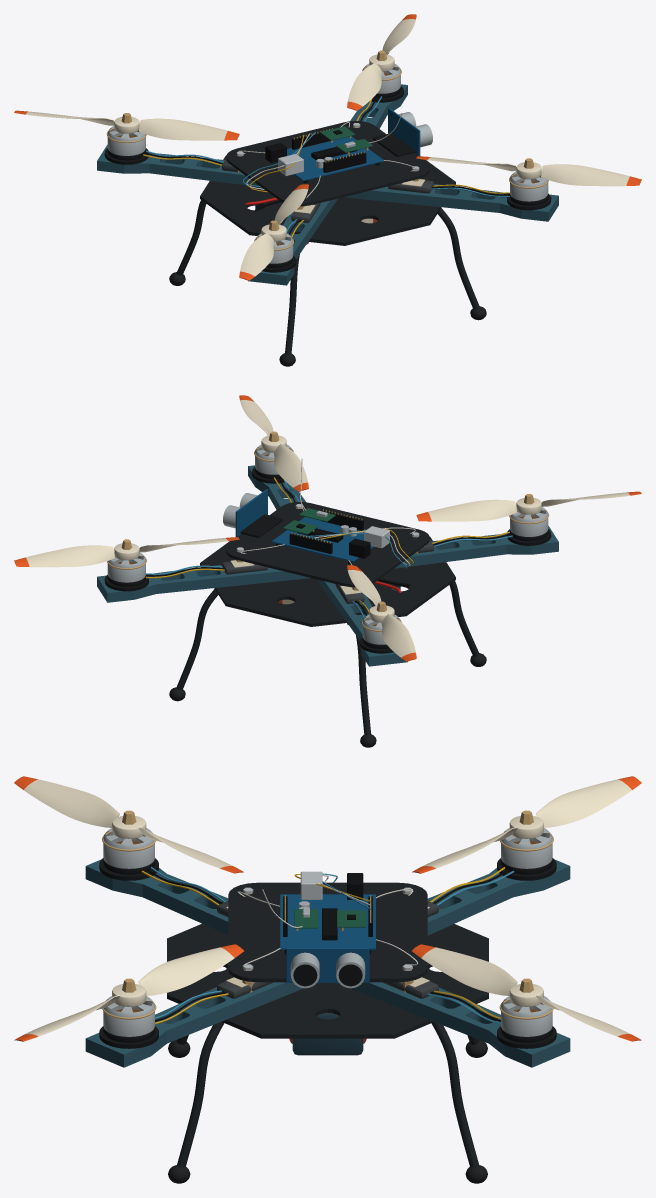
File: drone.glb
3 renders of one model, top to bottom at view 1: azimuth 30°, elevation 25°; view 2: azimuth 150°, elevation 25°; view 3: azimuth 270°, elevation 25°, orthographic. The views are drawn at different scales.
Visible parts, largest first — view 1: M_carbon, M_arm_blue, M_motor_bell, M_pcb_blue, mover_prop3_b, mover_prop1_b, M_plastic_black, mover_prop0_b, mover_prop2_b, M_chip_black, M_heatshrink, M_wire_blue (+5 smaller); view 2: M_carbon, M_arm_blue, M_motor_bell, M_pcb_blue, mover_prop0_b, mover_prop2_b, M_plastic_black, mover_prop1_b, mover_prop3_b, M_chip_black, M_heatshrink, M_wire_blue (+5 smaller); view 3: M_carbon, M_arm_blue, M_motor_bell, M_pcb_blue, M_plastic_black, mover_prop2_b, mover_prop0_b, mover_prop1_b, mover_prop3_b, M_lipo_blue, M_chip_black, M_heatshrink (+11 smaller).
Boxes of the visible parts, x1,y1,x2,y2 form: M_carbon: (176,121,479,354); M_arm_blue: (97,84,558,285); M_motor_bell: (107,63,548,263); M_pcb_blue: (277,108,420,181); mover_prop3_b: (416,156,641,186); mover_prop1_b: (14,110,239,140); M_plastic_black: (104,86,551,272); mover_prop0_b: (347,14,416,110); mover_prop2_b: (239,184,308,280); M_chip_black: (265,130,366,172); M_heatshrink: (221,159,434,222); M_wire_blue: (146,96,509,232); M_carbon: (176,502,479,735); M_arm_blue: (97,465,558,666); M_motor_bell: (107,444,548,644); M_pcb_blue: (235,489,374,562); mover_prop0_b: (14,537,239,567); mover_prop2_b: (416,491,641,521); M_plastic_black: (104,467,551,653); mover_prop1_b: (347,565,416,661); mover_prop3_b: (239,395,308,491); M_chip_black: (289,510,370,558); M_heatshrink: (221,540,434,603); M_wire_blue: (146,480,512,618); M_carbon: (167,882,488,1167); M_arm_blue: (85,859,570,1067); M_motor_bell: (103,828,552,1036); M_pcb_blue: (280,894,375,982); M_plastic_black: (99,858,556,1048); mover_prop2_b: (14,776,243,873); mover_prop0_b: (412,944,641,1041); mover_prop1_b: (412,776,641,873); mover_prop3_b: (14,944,243,1041); M_lipo_blue: (292,1013,363,1055); M_chip_black: (283,873,372,940); M_heatshrink: (217,901,438,998).
Bounding box in the file's own units: 0.3462 × 0.1601 × 0.3462.
